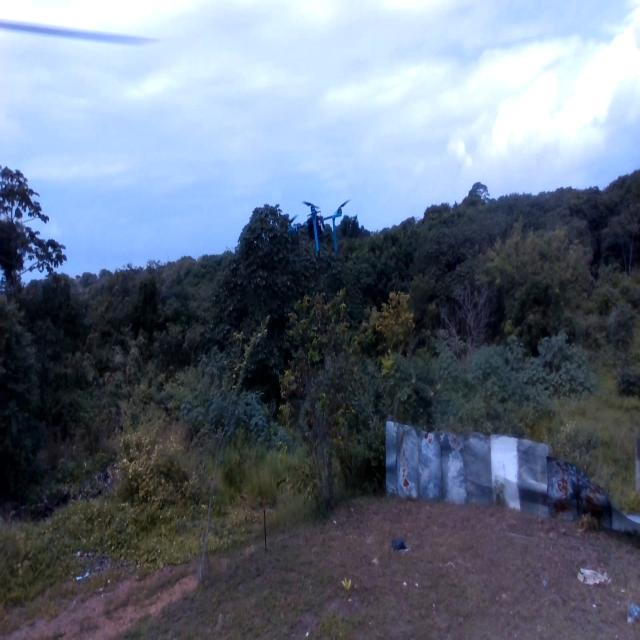-uav-: (283, 188, 346, 268)
